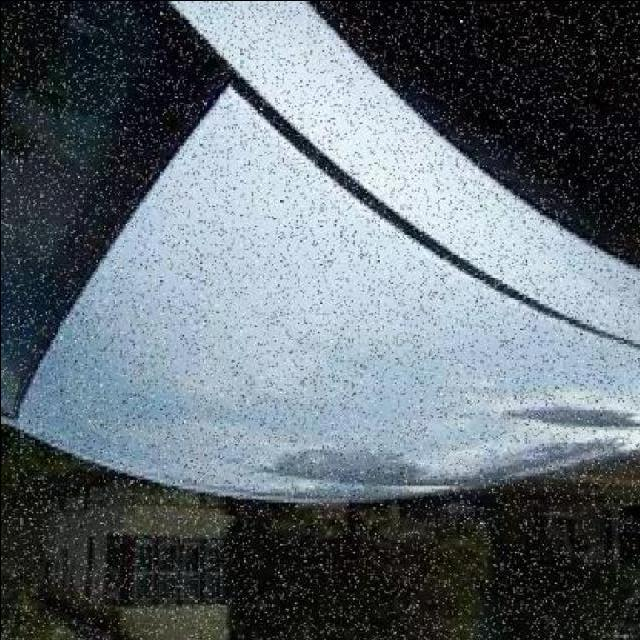roof-dent: (189, 103, 365, 496), (41, 212, 209, 493)
